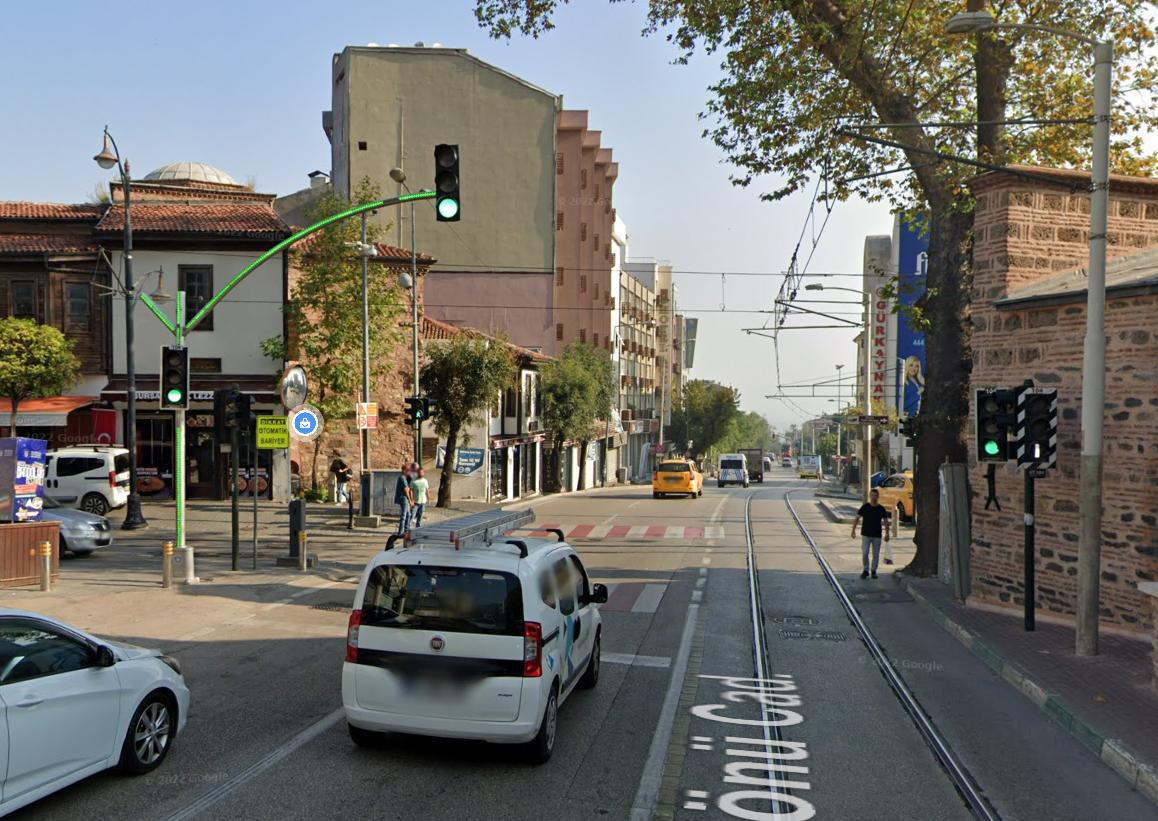greenlight: (976, 388, 1005, 457), (435, 144, 460, 218), (160, 344, 188, 407)
